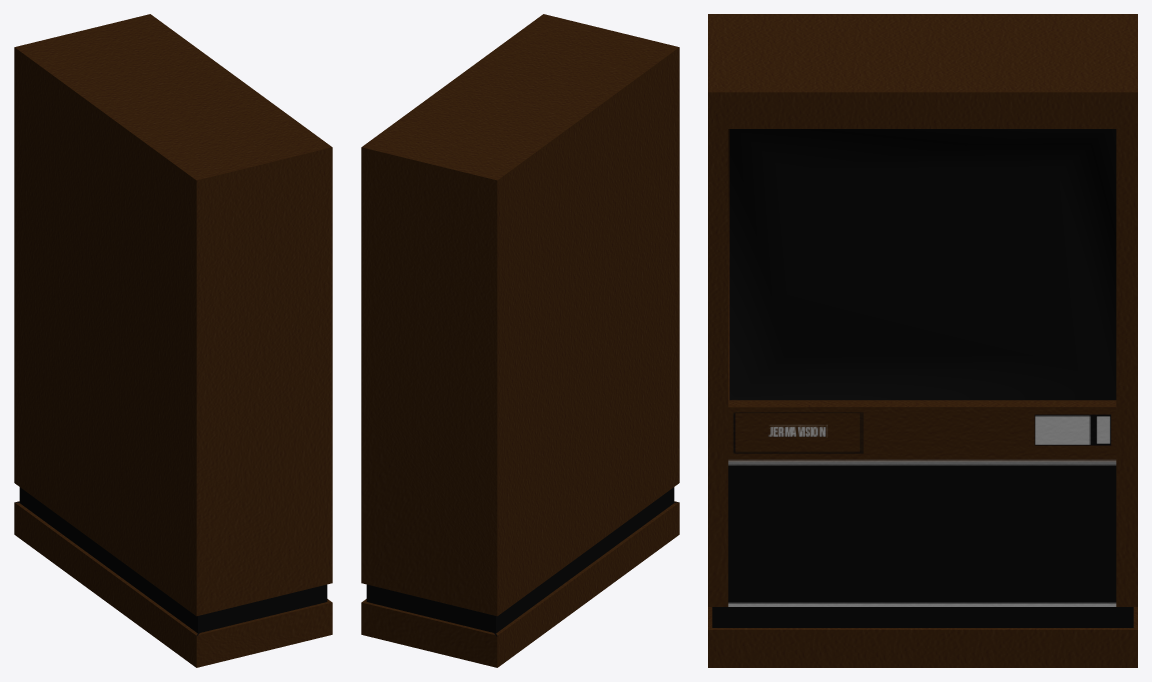
File: eighties_tv_set.fbx
3 renders of one model, left to right at view 1: azimuth 30°, elevation 25°; view 2: azimuth 150°, elevation 25°; view 3: azimuth 270°, elevation 25°, orthographic. The views are drawn at different scales.
Parts seen in each view (by area): view 1: Cube; view 2: Cube; view 3: Cube.
Part boxes in pixels (box(x1,y1,x2,y2)): Cube: box(14, 14, 332, 667); Cube: box(361, 14, 679, 667); Cube: box(708, 14, 1137, 667).
Size of the model in its own units: 86.27 by 295 by 200.
